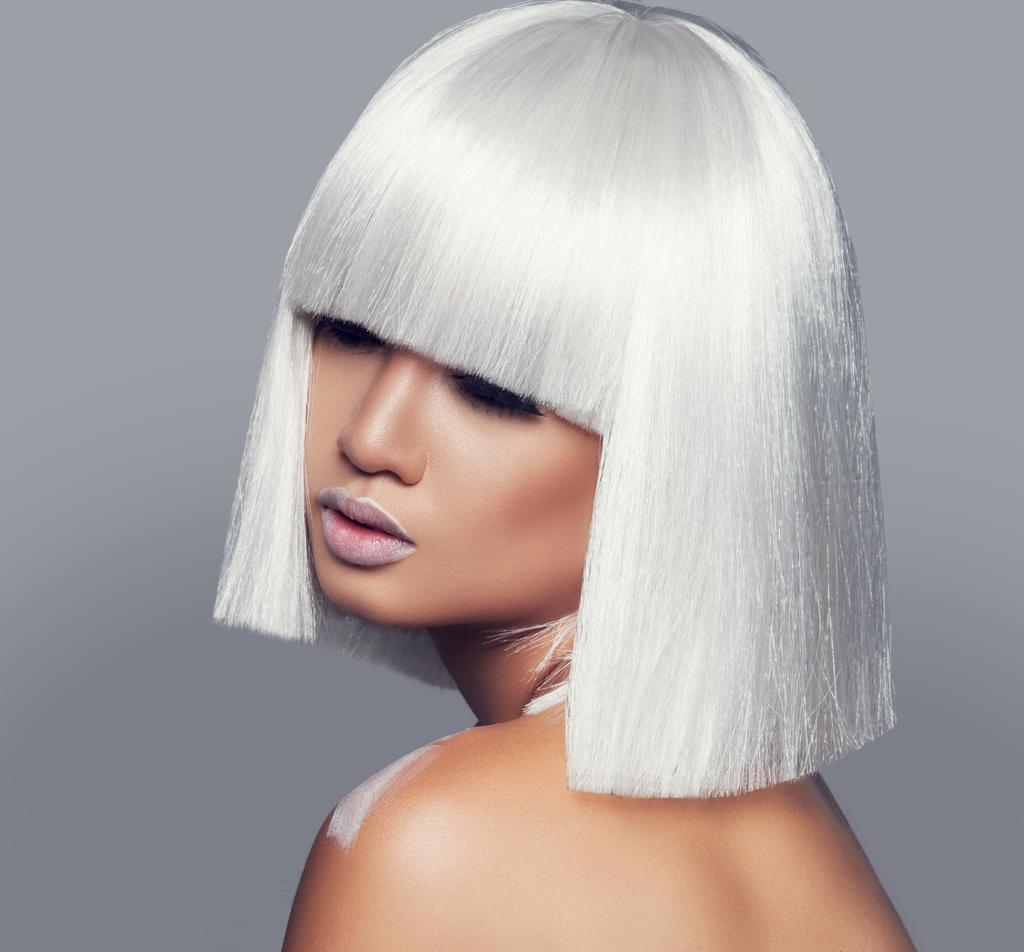face: (283, 172, 586, 654)
